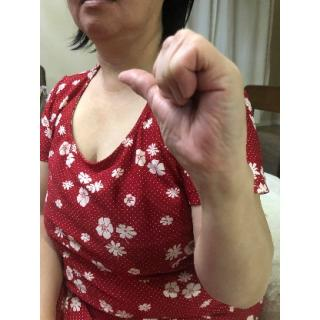WAW: (114, 22, 249, 184)
